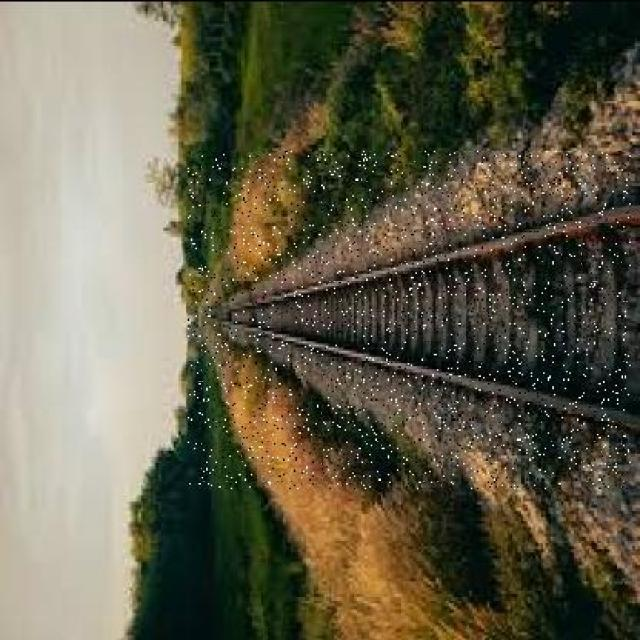rail: (189, 151, 631, 488)
